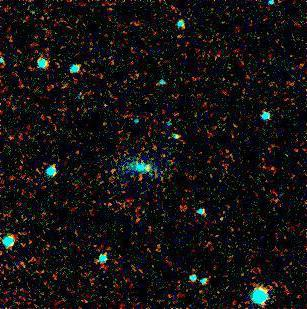star: (135, 150, 165, 180)
